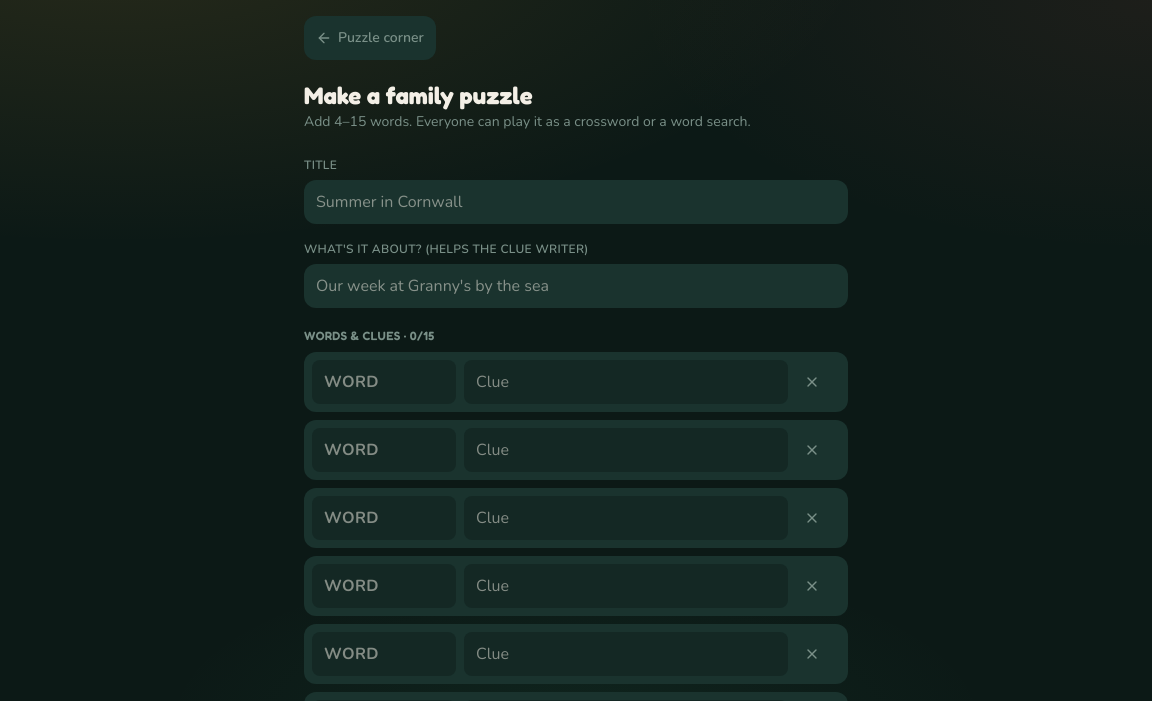
Scenario: PuzzleMaker › asks Claude only for blank clues and never overwrites typed ones
Type "Cornwall" into the field with placeholder "Our week at Granny's by the sea" at (576, 286), box [304,264,848,308]
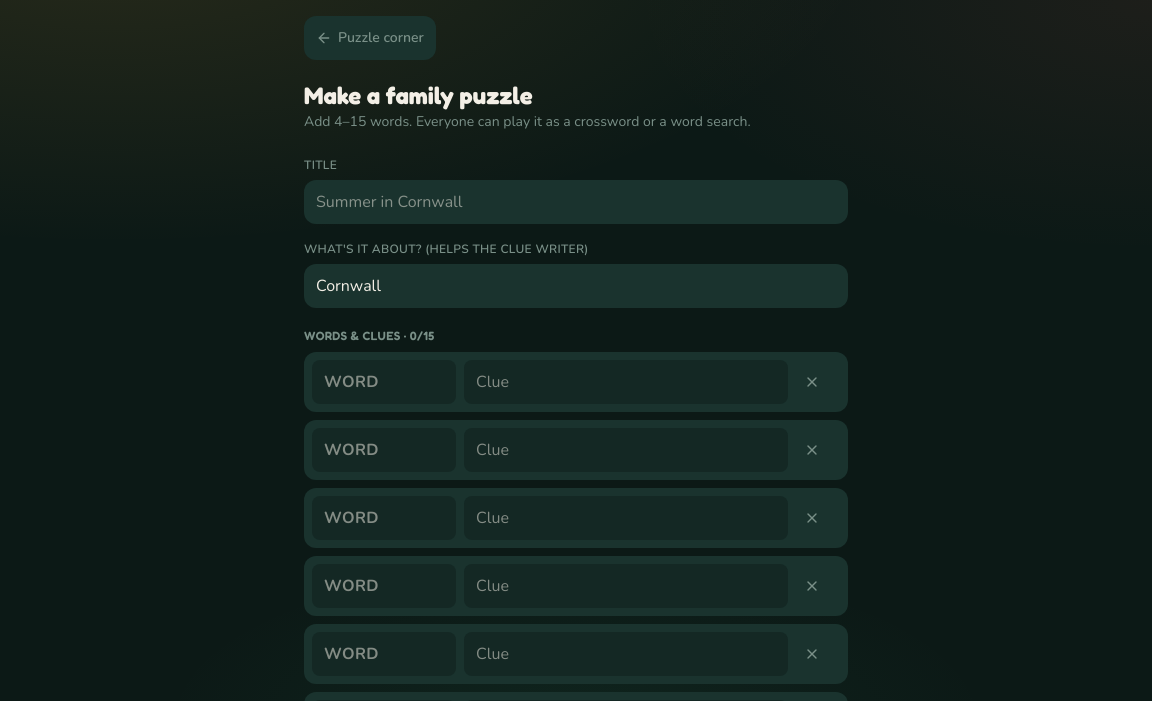
Type "beach" into the 1st field with placeholder "WORD" at (384, 382), box [312,360,456,404]
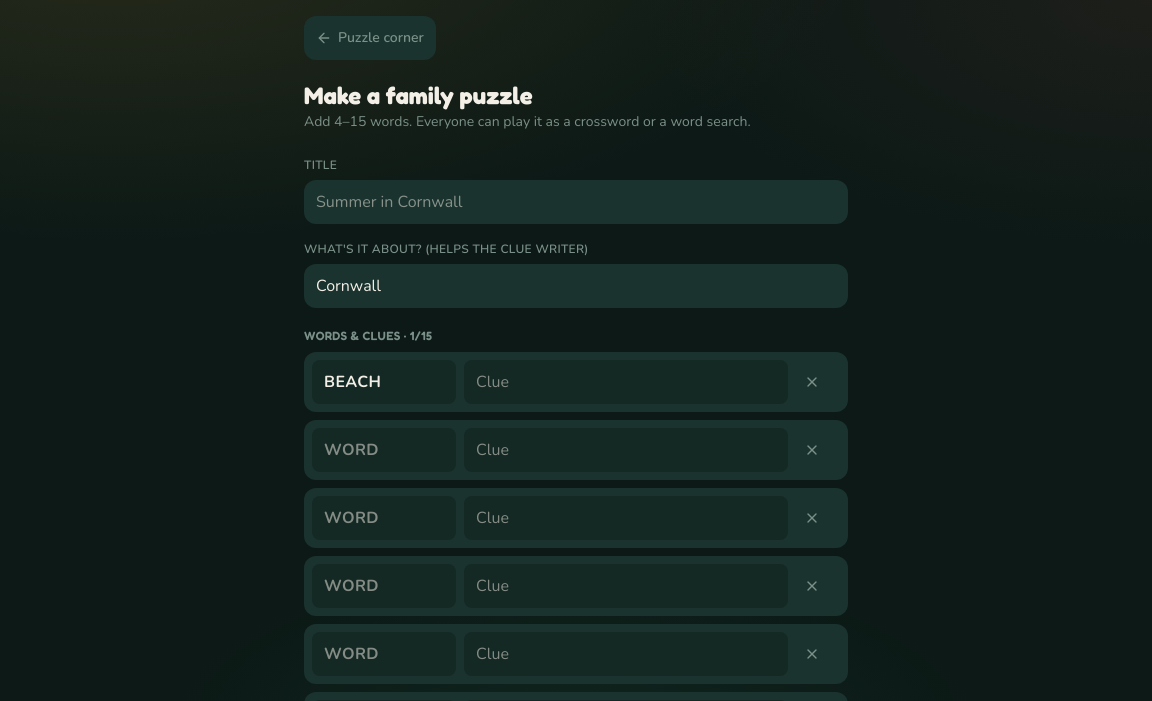
Type "pasty" into the 1st field with placeholder "WORD" at (384, 450), box [312,428,456,472]
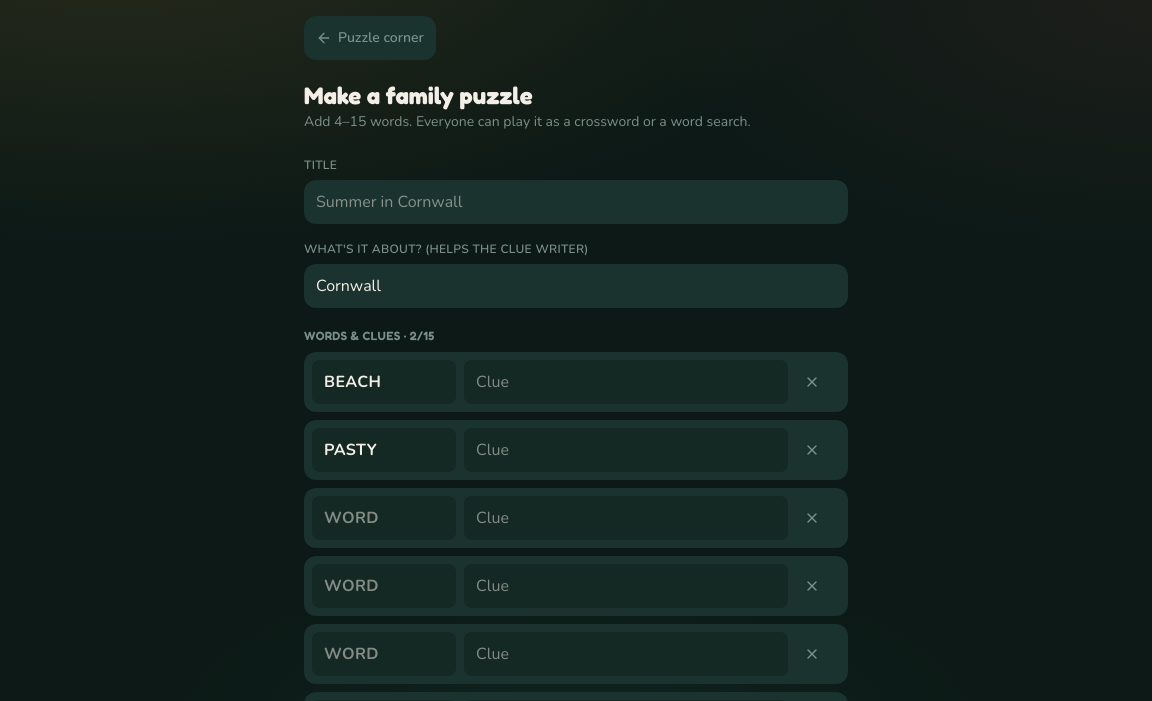
Type "surf" into the 1st field with placeholder "WORD" at (384, 518), box [312,496,456,540]
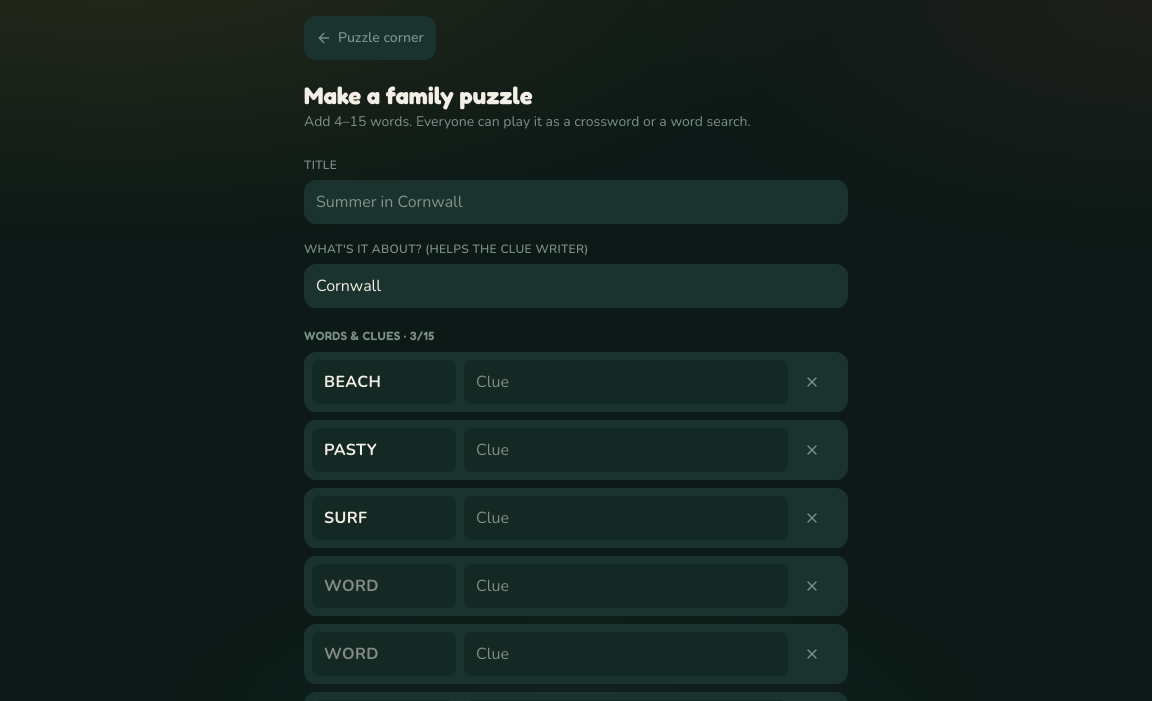
Type "Sandy place" into the 1st field with placeholder "Clue" at (626, 382), box [464,360,788,404]
(page scrolled)
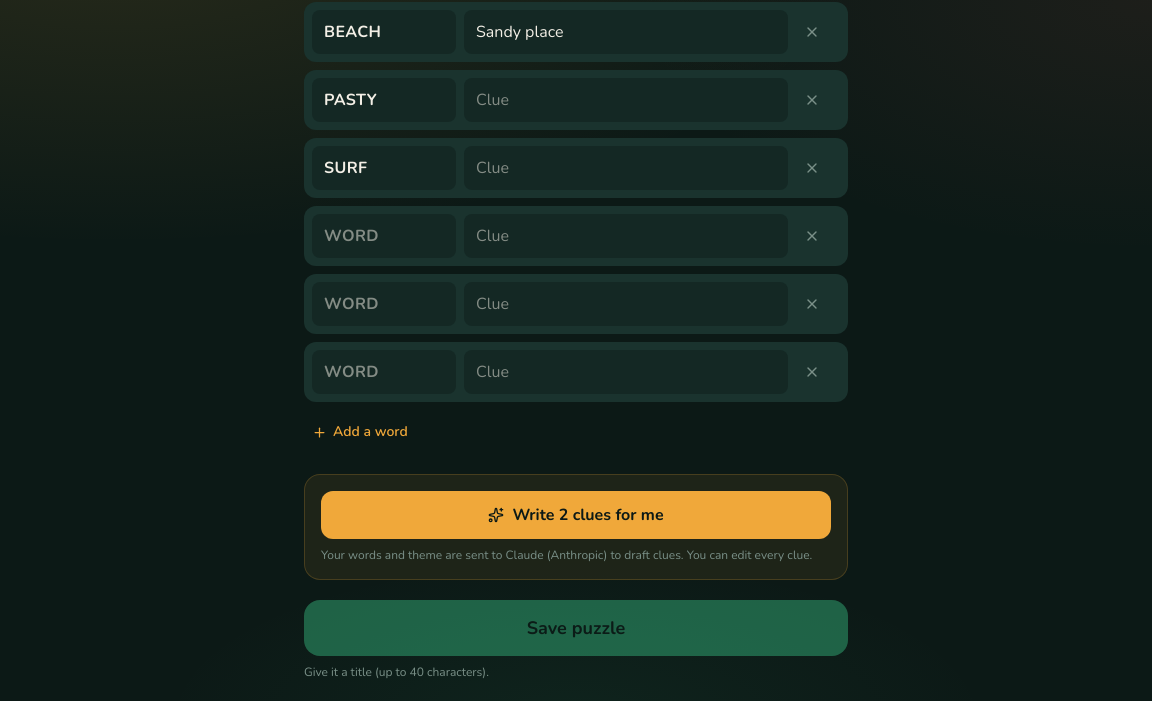
Click the button "Write 2 clues for me" at (576, 515), box [321,491,831,539]
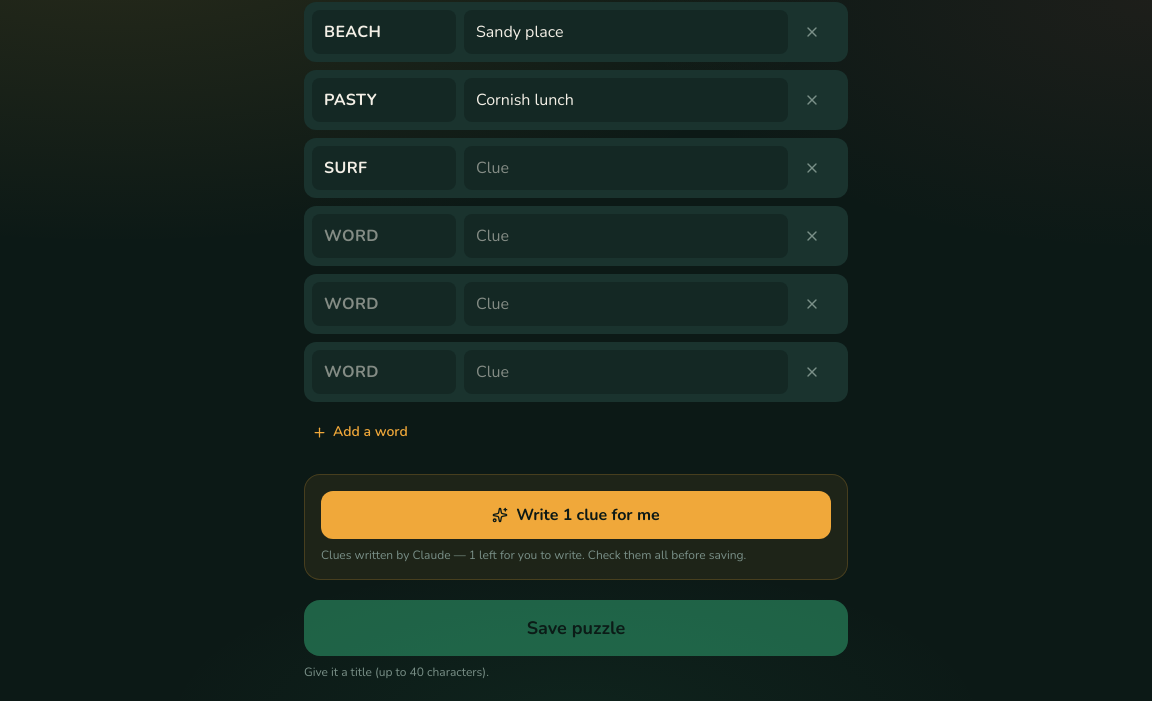
Expected: the text "1 left for you to write" is shown, [321,547,746,563]
